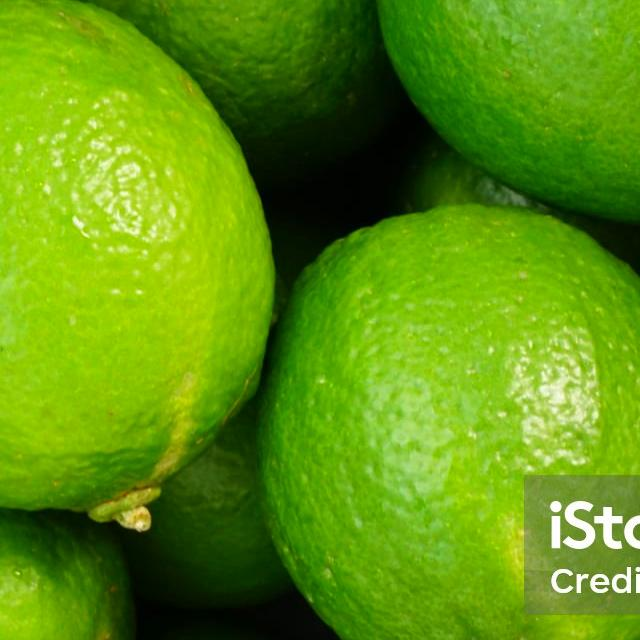lime: (371, 0, 640, 236)
